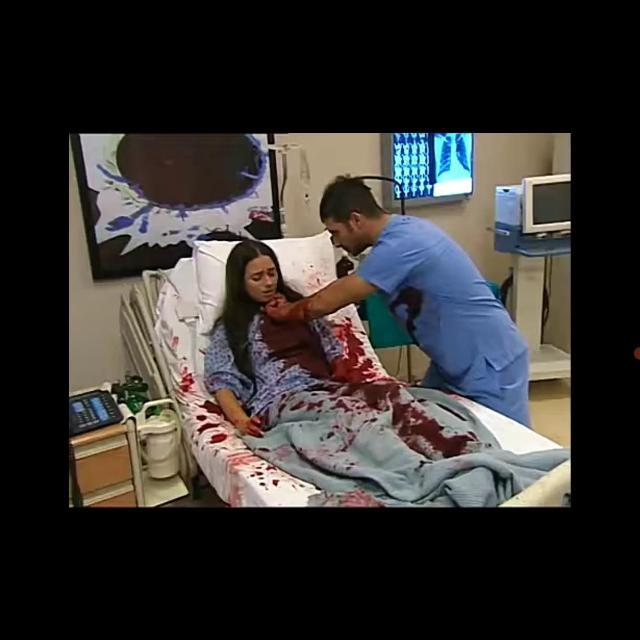blood: (260, 284, 493, 472), (156, 322, 383, 507), (390, 285, 424, 343), (302, 261, 328, 293)
